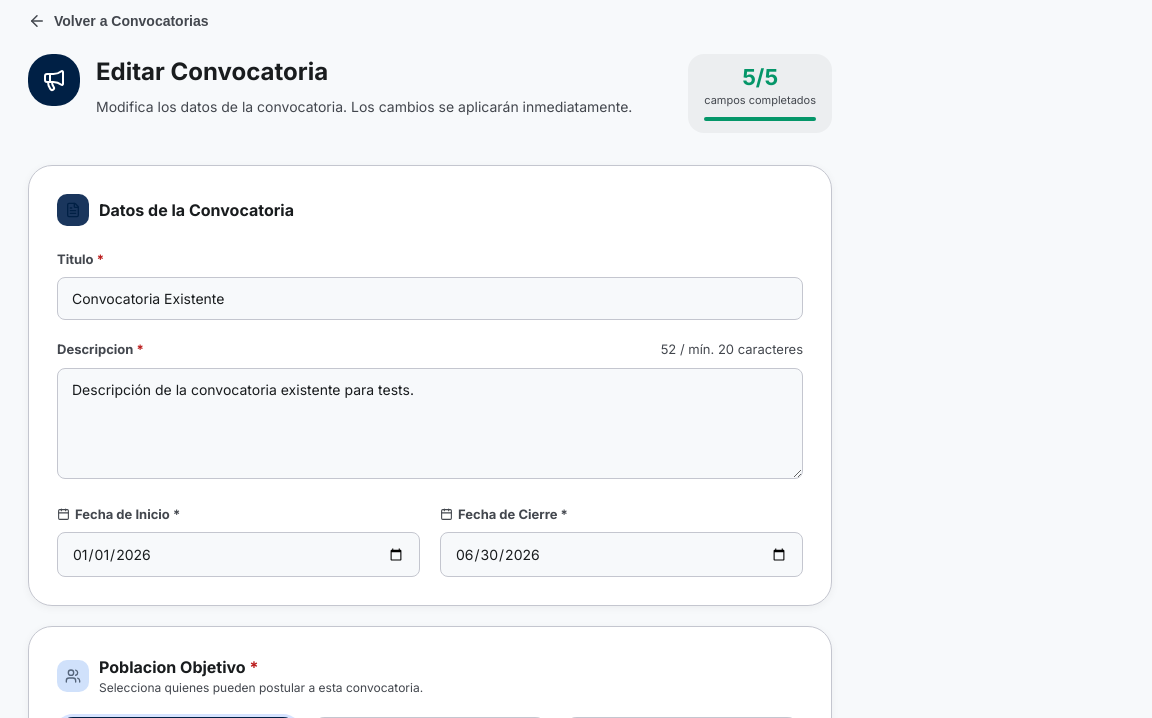
EditConvocatoria › validates description minimum length on blur
Replace the text in the text box showing "Descripción de la convocatoria existente para tests." with "Corto": (430, 423) [57, 368, 803, 478]
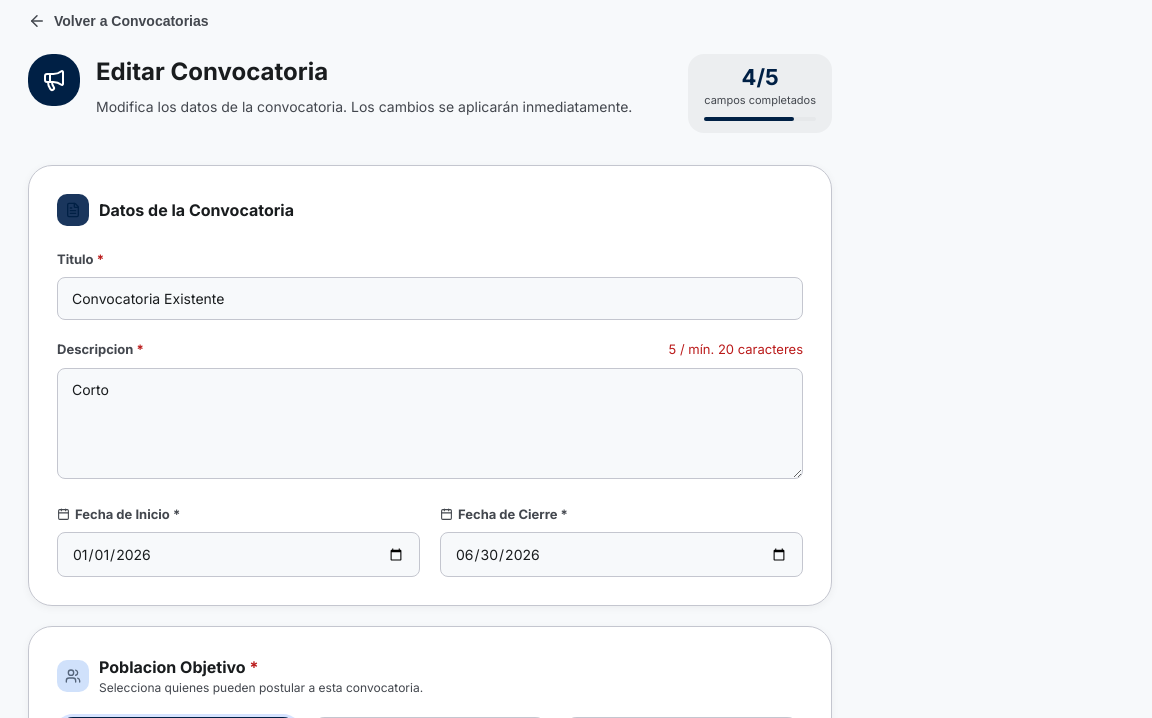
Leave the text box showing "Descripción de la convocatoria existente para tests.", box [57, 368, 803, 478]
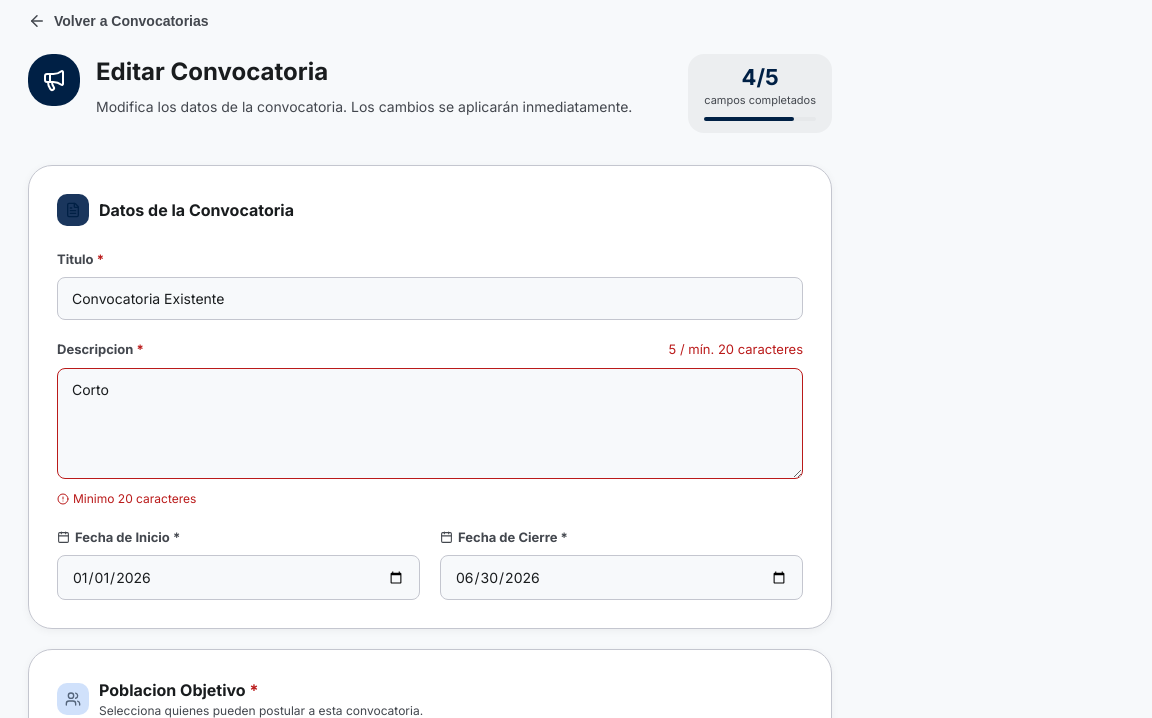
Check: the text "Minimo 20 caracteres" is shown, box [57, 490, 196, 506]
